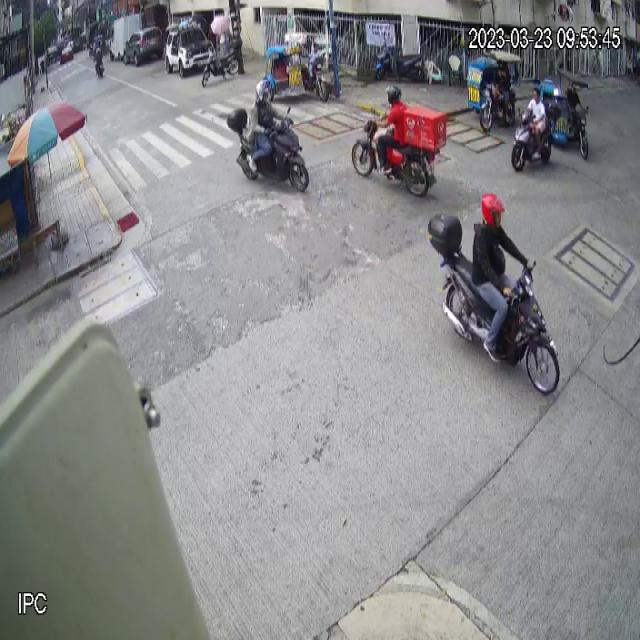Motorcycle: (426, 211, 561, 394), (351, 100, 446, 196), (225, 102, 310, 193), (510, 105, 561, 171)
Tricycle: (537, 70, 598, 156), (265, 32, 330, 104), (466, 50, 522, 130)
